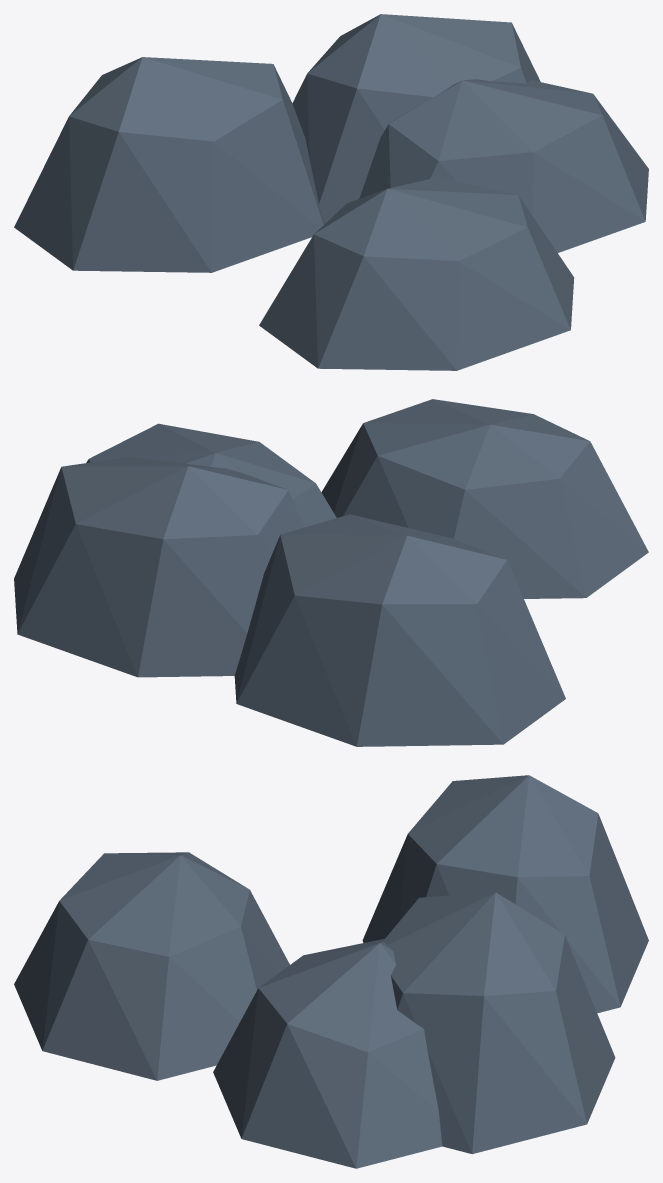
3 views of the same model, one above another, from view 1: azimuth 30°, elevation 25°; view 2: azimuth 150°, elevation 25°; view 3: azimuth 270°, elevation 25° (orthographic). The views are drawn at different scales.
Parts seen in each view (by area): view 1: 区域碎石簇_1.001; view 2: 区域碎石簇_1.001; view 3: 区域碎石簇_1.001.
Part boxes in pixels (x1,y1,x2,y2): 区域碎石簇_1.001: [14, 14, 648, 370]; 区域碎石簇_1.001: [14, 399, 648, 746]; 区域碎石簇_1.001: [14, 775, 648, 1168].
Bounding box in the file's own units: 0.2497 × 0.07 × 0.2377.
